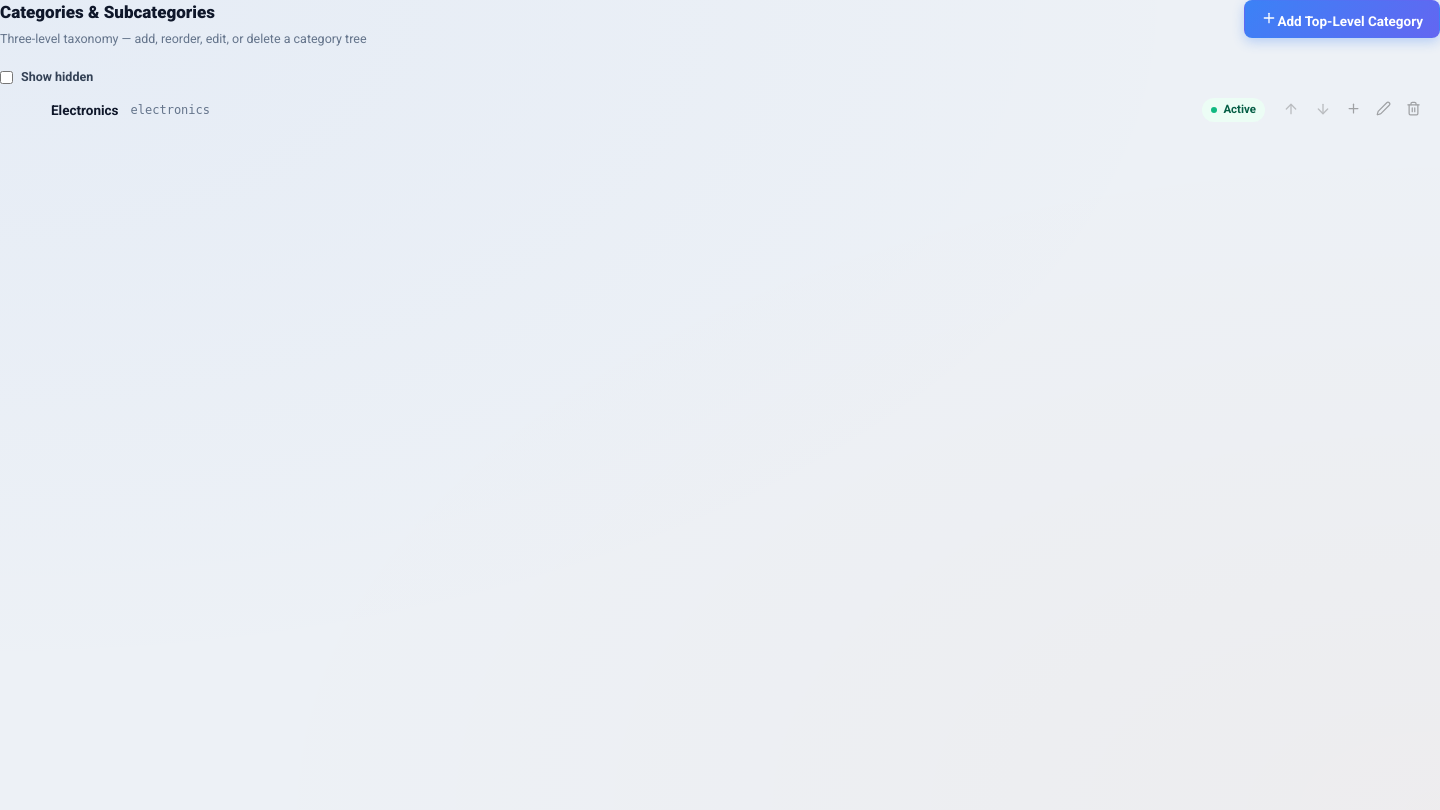
Test: CategoriesTreeEditor › counts hidden descendants in the delete warning
Expected: the text "Electronics" is shown, [51,100,118,120]
Click the button named "Delete Electronics" at (1413, 110), box [1399,96,1427,124]
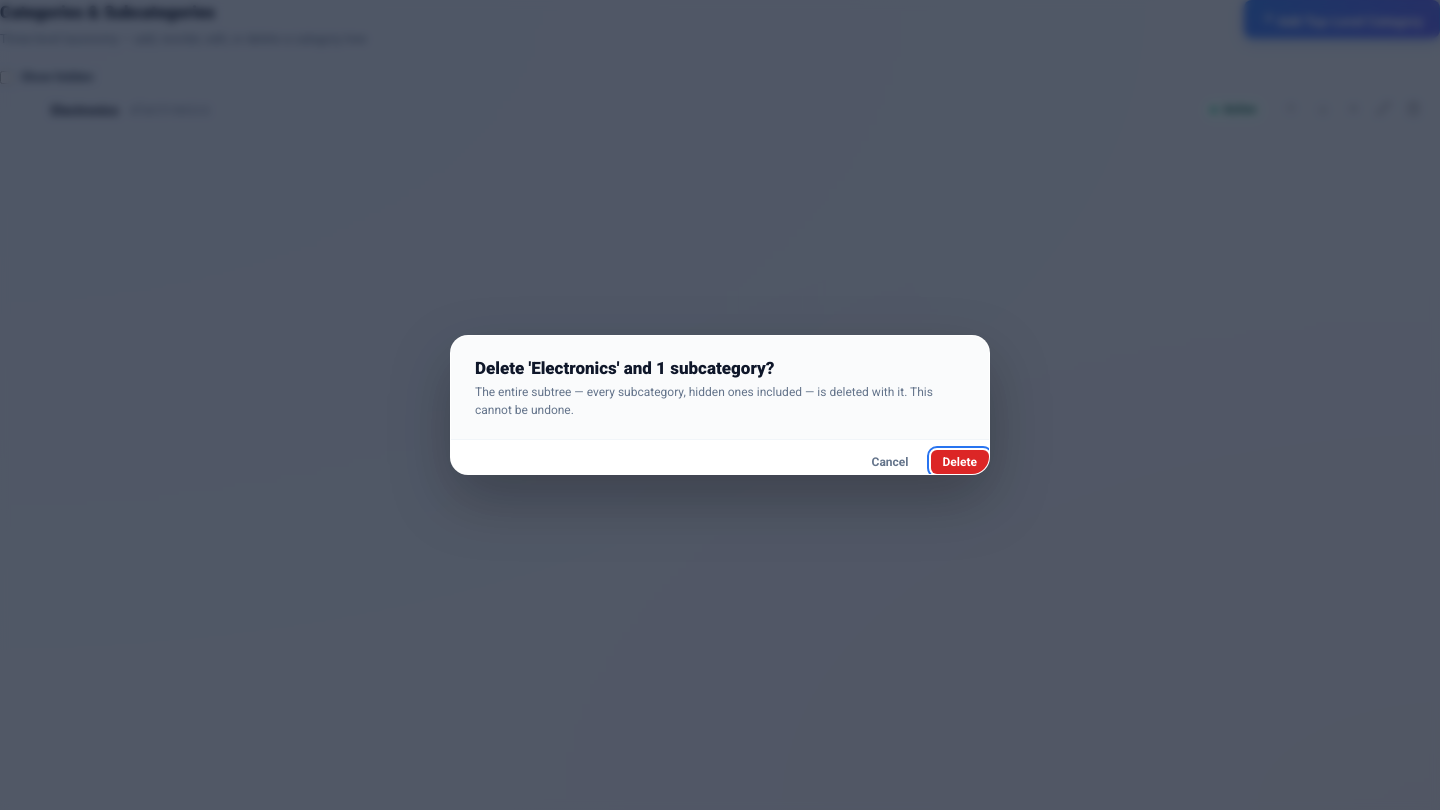
Now the heading "Delete 'Electronics' and 1 subcategory?" is shown, box [475,358,774,378]
